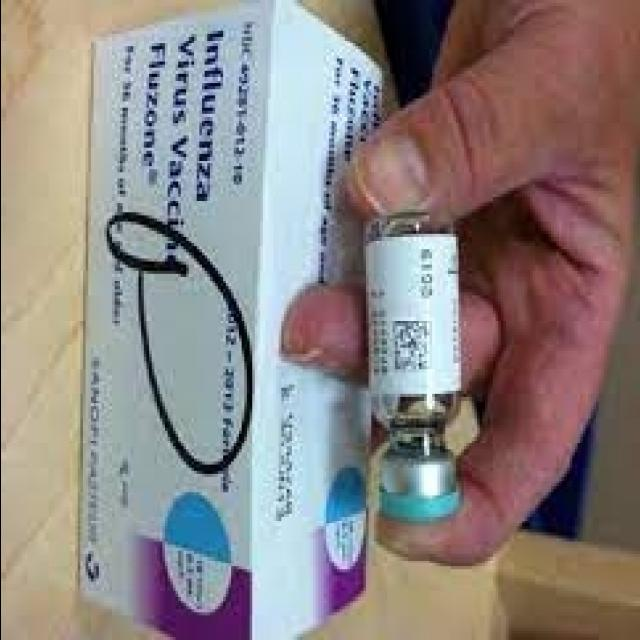DataMatrix: (391, 317, 434, 372)
